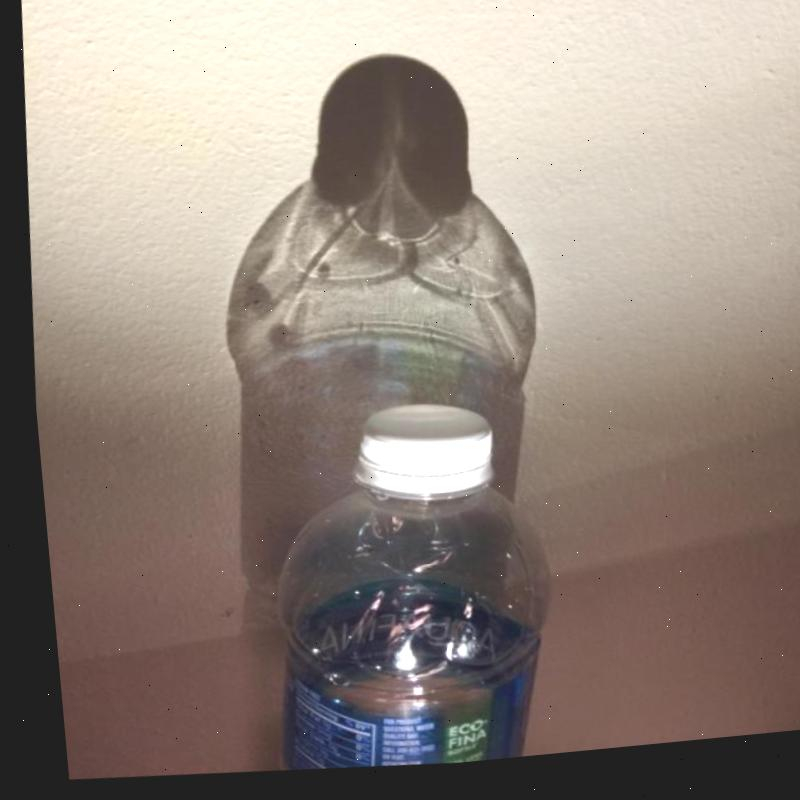botella: (236, 388, 561, 784)
